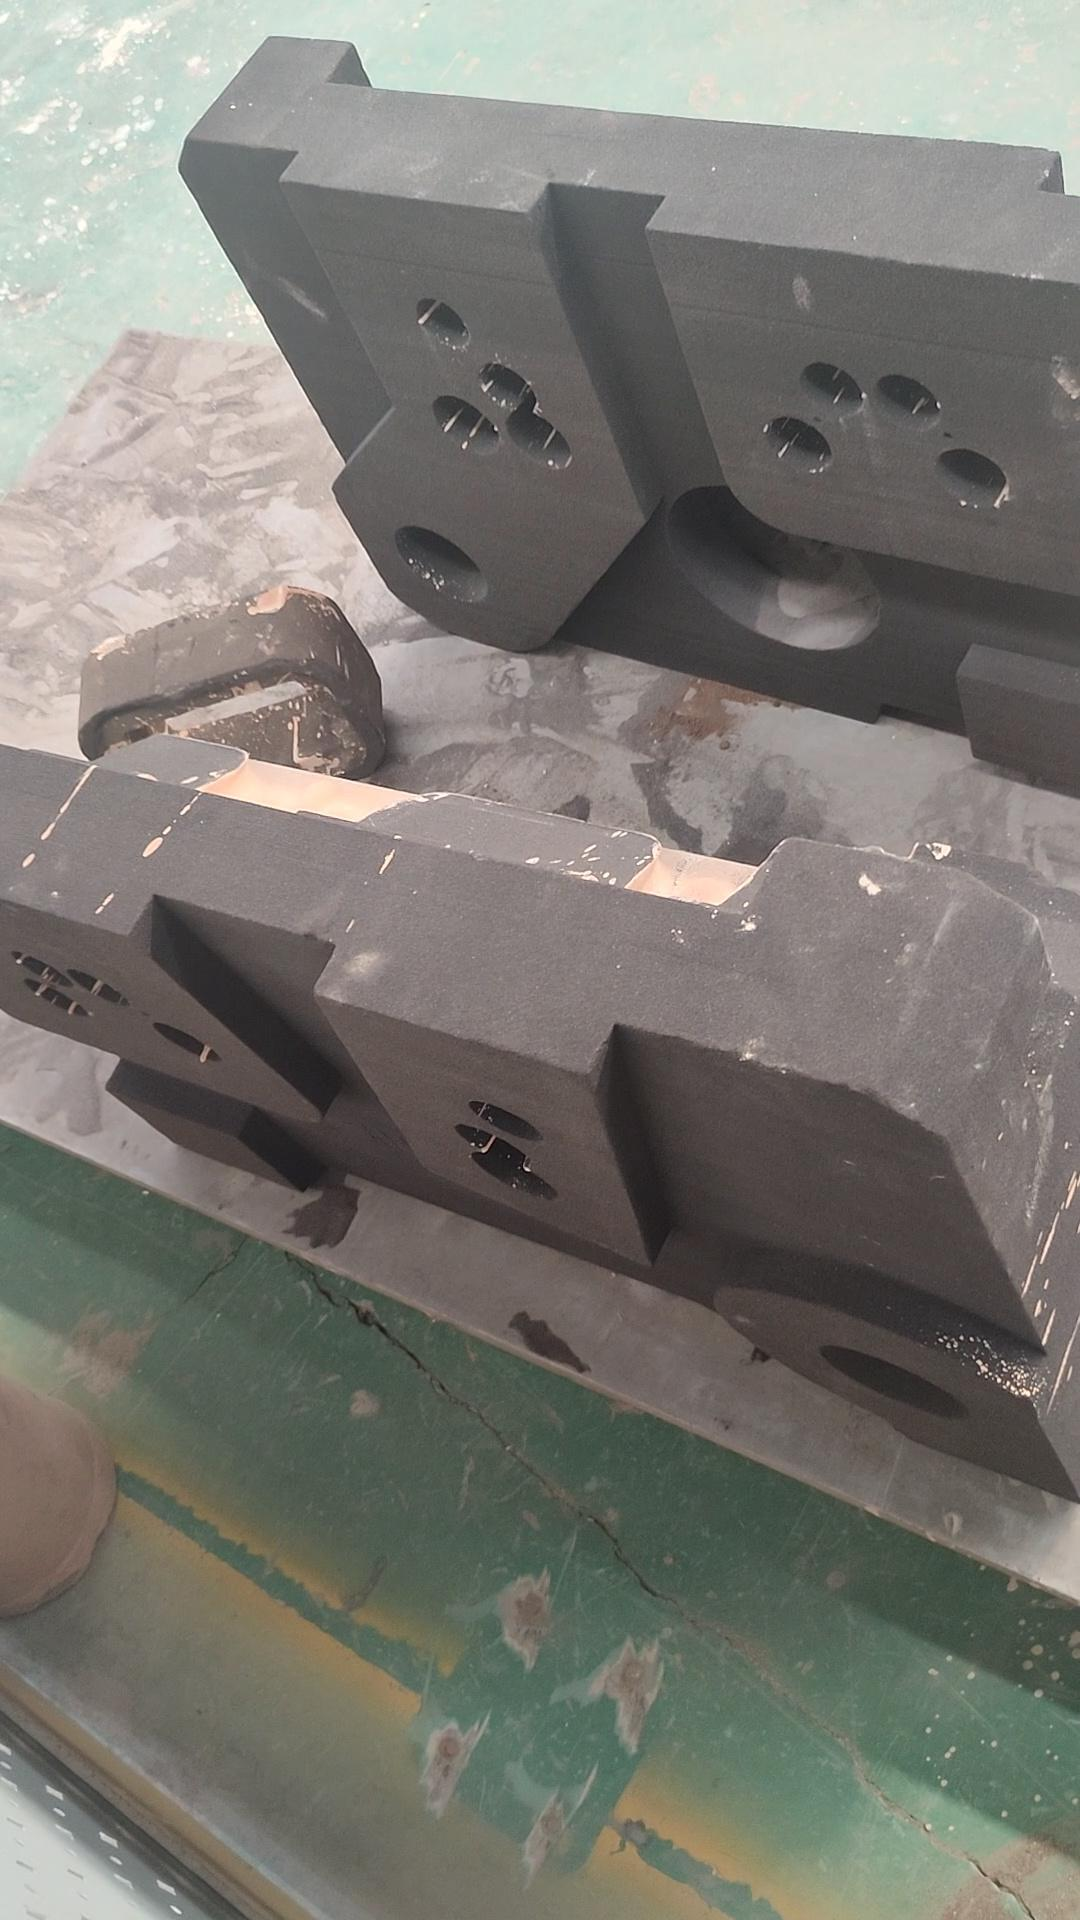pouring hole: (818, 1345, 972, 1424), (392, 527, 485, 601)
